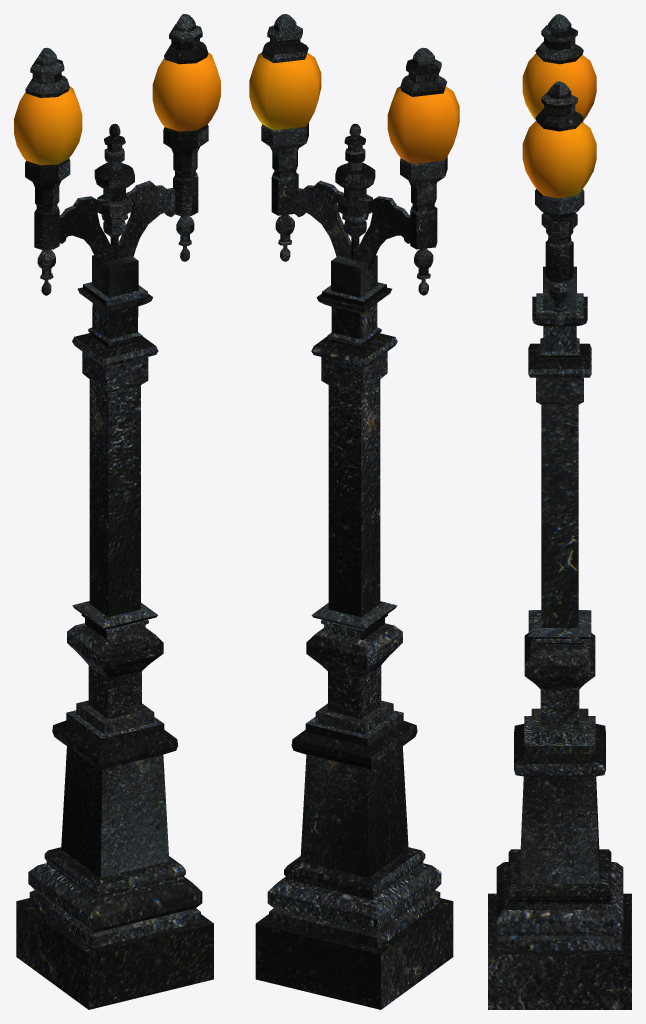
The model's file is textured lamp 13.fbx.
3 views of the same model, side by side, from view 1: azimuth 30°, elevation 25°; view 2: azimuth 150°, elevation 25°; view 3: azimuth 270°, elevation 25° (orthographic).
Visible parts, largest first — view 1: Circle.002, Circle.007; view 2: Circle.002, Circle.007; view 3: Circle.002, Circle.007.
Boxes of the visible parts, x1,y1,x2,y2 form: Circle.002: [16, 14, 213, 1009]; Circle.007: [14, 52, 220, 165]; Circle.002: [255, 14, 453, 1009]; Circle.007: [249, 52, 459, 164]; Circle.002: [488, 14, 631, 1009]; Circle.007: [522, 53, 596, 198].
Size of the model in its own units: 101 by 445 by 62.39.
2 materials, 2 textured.
